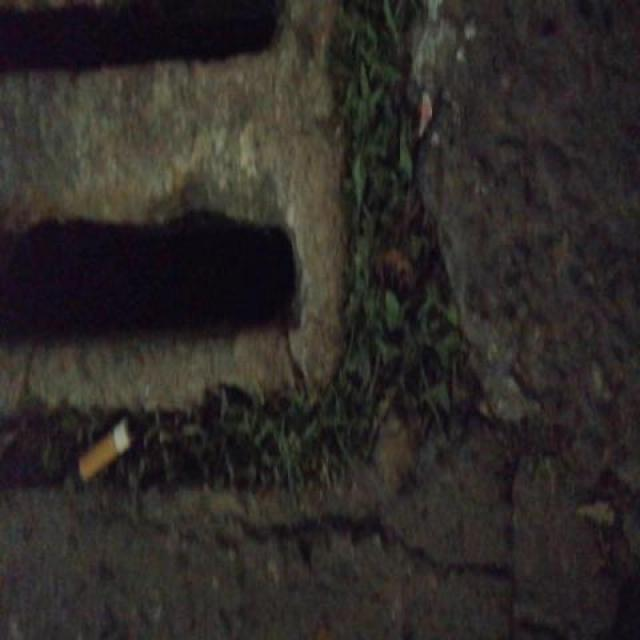non-organic waste: (73, 410, 140, 490)
